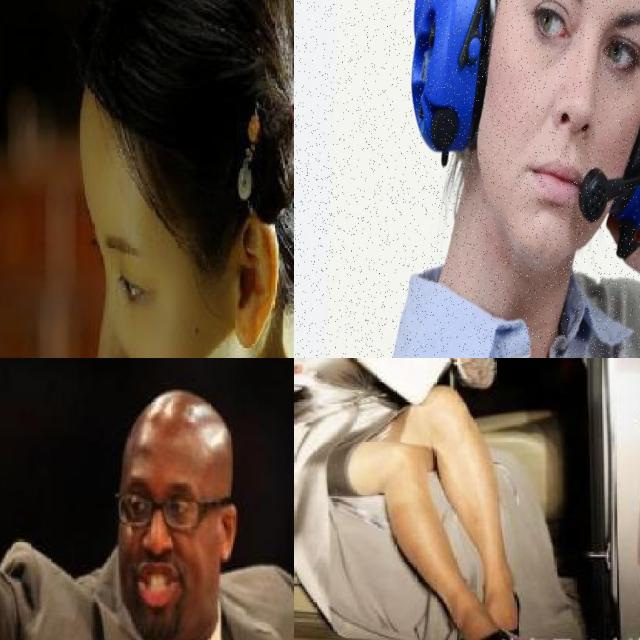No_Ear-Protection: (412, 0, 496, 152), (225, 212, 282, 354)
No_Glasses: (517, 0, 640, 96), (90, 233, 191, 328)
face_nomask: (478, 29, 640, 274), (61, 173, 217, 358), (116, 449, 216, 633)
glasses: (109, 490, 211, 536)
hand_glove: (294, 362, 316, 397)
head_nohelmet: (49, 8, 294, 177), (120, 384, 238, 461)
person: (24, 0, 294, 358), (0, 358, 294, 640), (294, 358, 515, 640), (493, 358, 640, 640)
